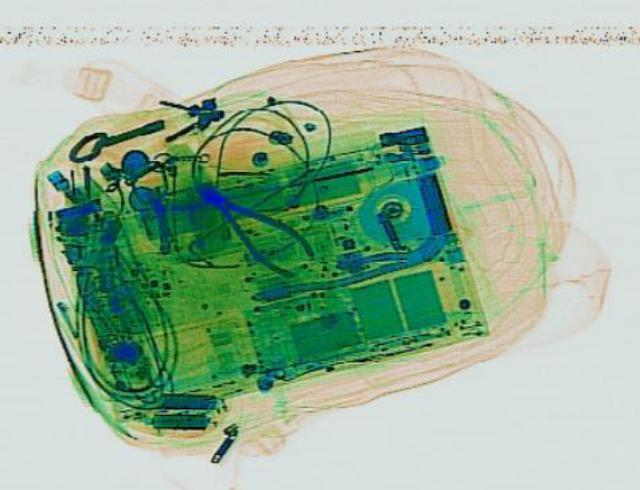Pliers: (172, 168, 326, 280)
